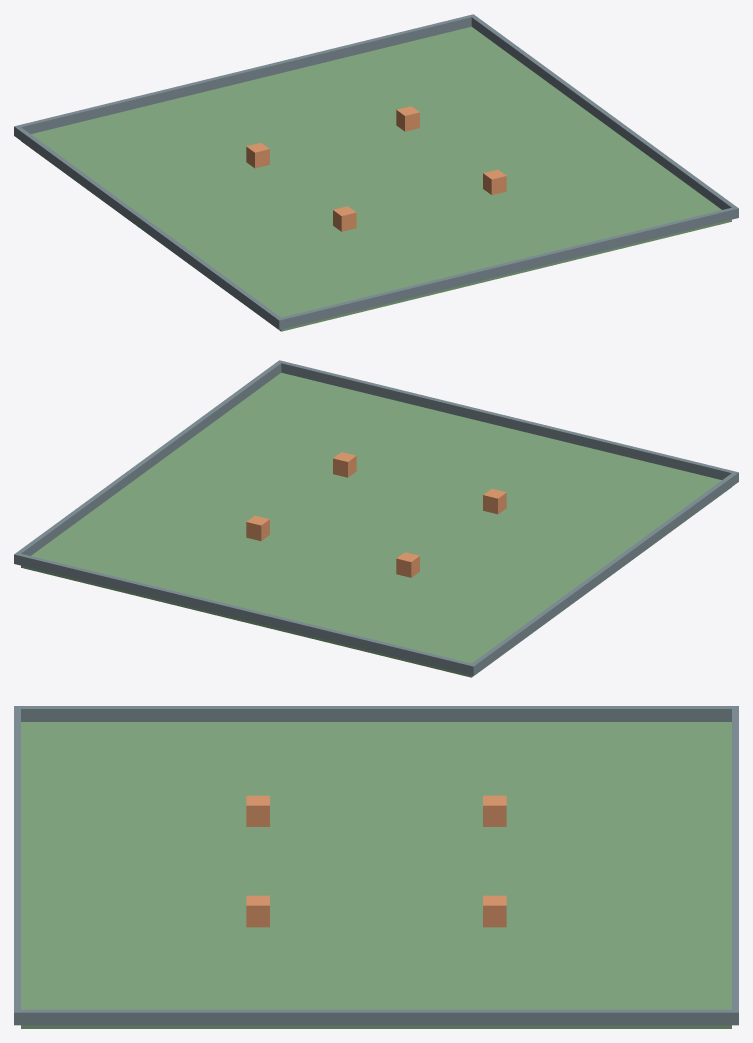
The model's file is world.glb.
3 views of the same model, one above another, from view 1: azimuth 30°, elevation 25°; view 2: azimuth 150°, elevation 25°; view 3: azimuth 270°, elevation 25° (orthographic). The views are drawn at different scales.
Parts seen in each view (by area): view 1: platform, border_north, border_south, border_west, border_east, marker_-5_5, marker_5_-5; view 2: platform, border_south, border_north, border_west, border_east, marker_-5_-5, marker_5_5; view 3: platform, border_east, border_west, border_north, border_south, marker_5_-5, marker_5_5, marker_-5_-5, marker_-5_5.
Part boxes in pixels (x1,y1,x2,y2): platform: (21,26,731,331); border_north: (281,207,734,328); border_south: (19,15,471,133); border_west: (14,125,283,329); border_east: (469,14,738,218); marker_-5_5: (333,206,356,231); marker_5_-5: (396,106,419,131); platform: (21,372,731,677); border_south: (18,553,471,674); border_north: (281,361,733,479); border_west: (469,471,738,675); border_east: (14,360,283,564); marker_-5_-5: (396,552,419,577); marker_5_5: (333,452,356,477); platform: (21,722,731,1028); border_east: (14,1009,738,1025); border_west: (14,706,738,721); border_north: (14,709,20,1009); border_south: (732,709,738,1009); marker_5_-5: (483,895,506,927); marker_5_5: (246,895,269,927); marker_-5_-5: (483,795,506,826); marker_-5_5: (246,795,269,826).
Bounding box in the file's own units: 30.6 × 1.3 × 30.6.
